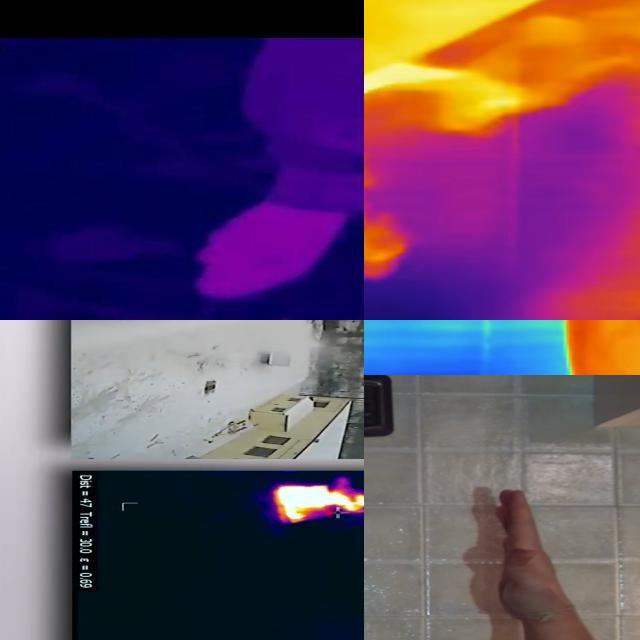fire: (365, 59, 538, 137), (276, 481, 365, 521)
